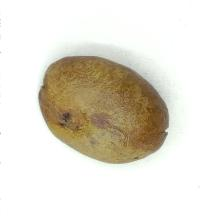NG: (54, 104, 79, 136)
